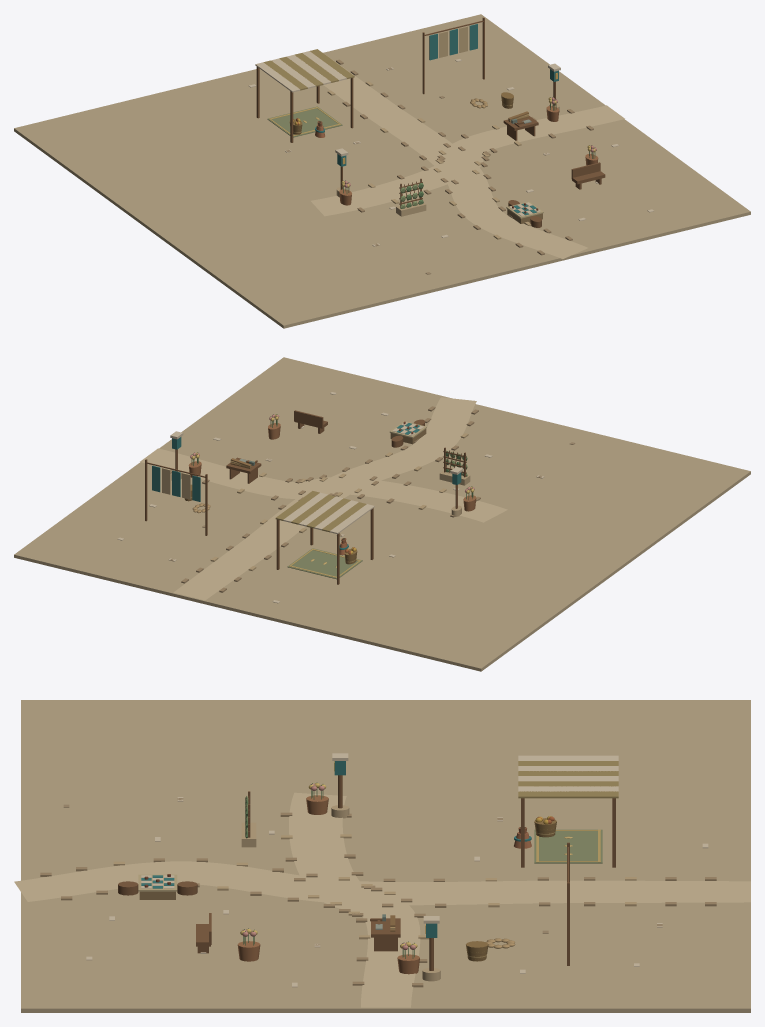
The model's file is city-lane-2.glb.
3 renders of one model, top to bottom at view 1: azimuth 30°, elevation 25°; view 2: azimuth 150°, elevation 25°; view 3: azimuth 270°, elevation 25°, orthographic. The views are drawn at different scales.
Parts seen in each view (by area): view 1: city-lane-2; view 2: city-lane-2; view 3: city-lane-2.
Part boxes in pixels (x1,y1,x2,y2): city-lane-2: [14, 14, 750, 328]; city-lane-2: [14, 357, 750, 671]; city-lane-2: [14, 700, 750, 1012].
Bounding box in the file's own units: 32 × 4.22 × 32.3.
